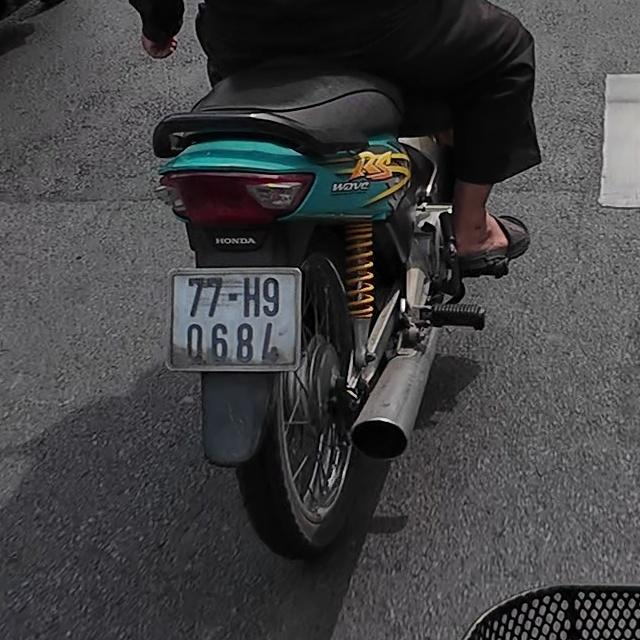license-plate: (169, 270, 295, 368)
